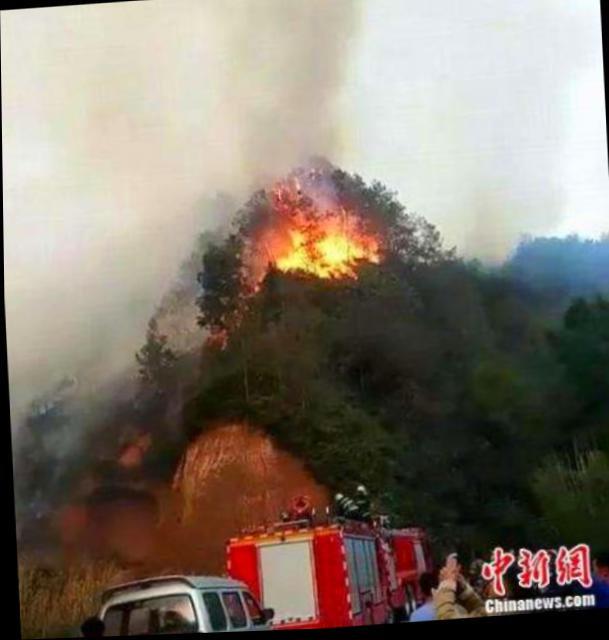fire: (268, 209, 379, 294)
